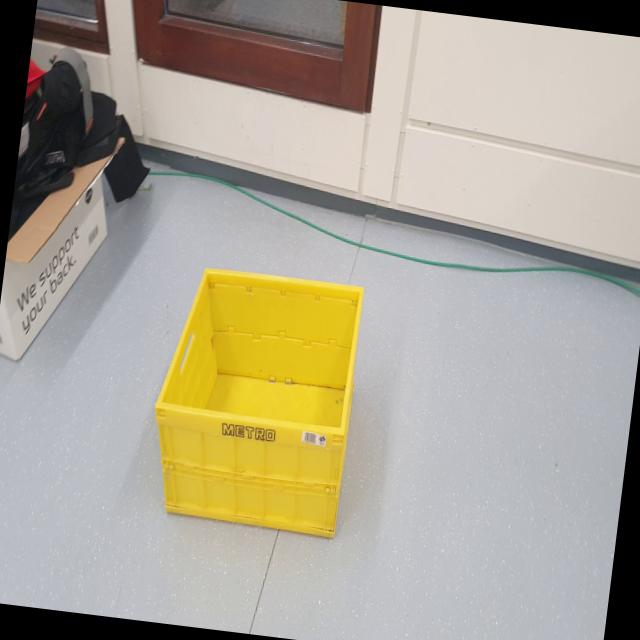box: (133, 240, 374, 569)
